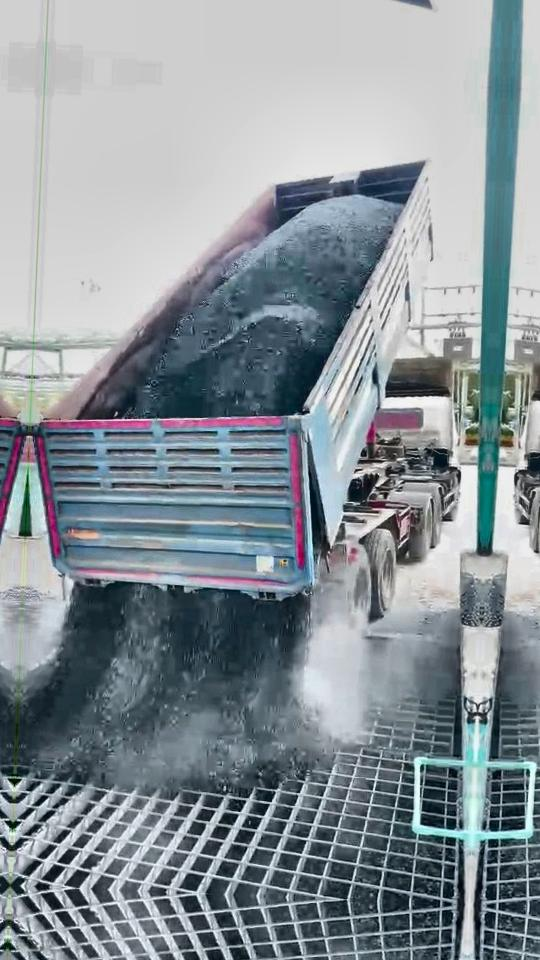gravel: (120, 196, 401, 417), (21, 585, 321, 789), (461, 571, 484, 626)
